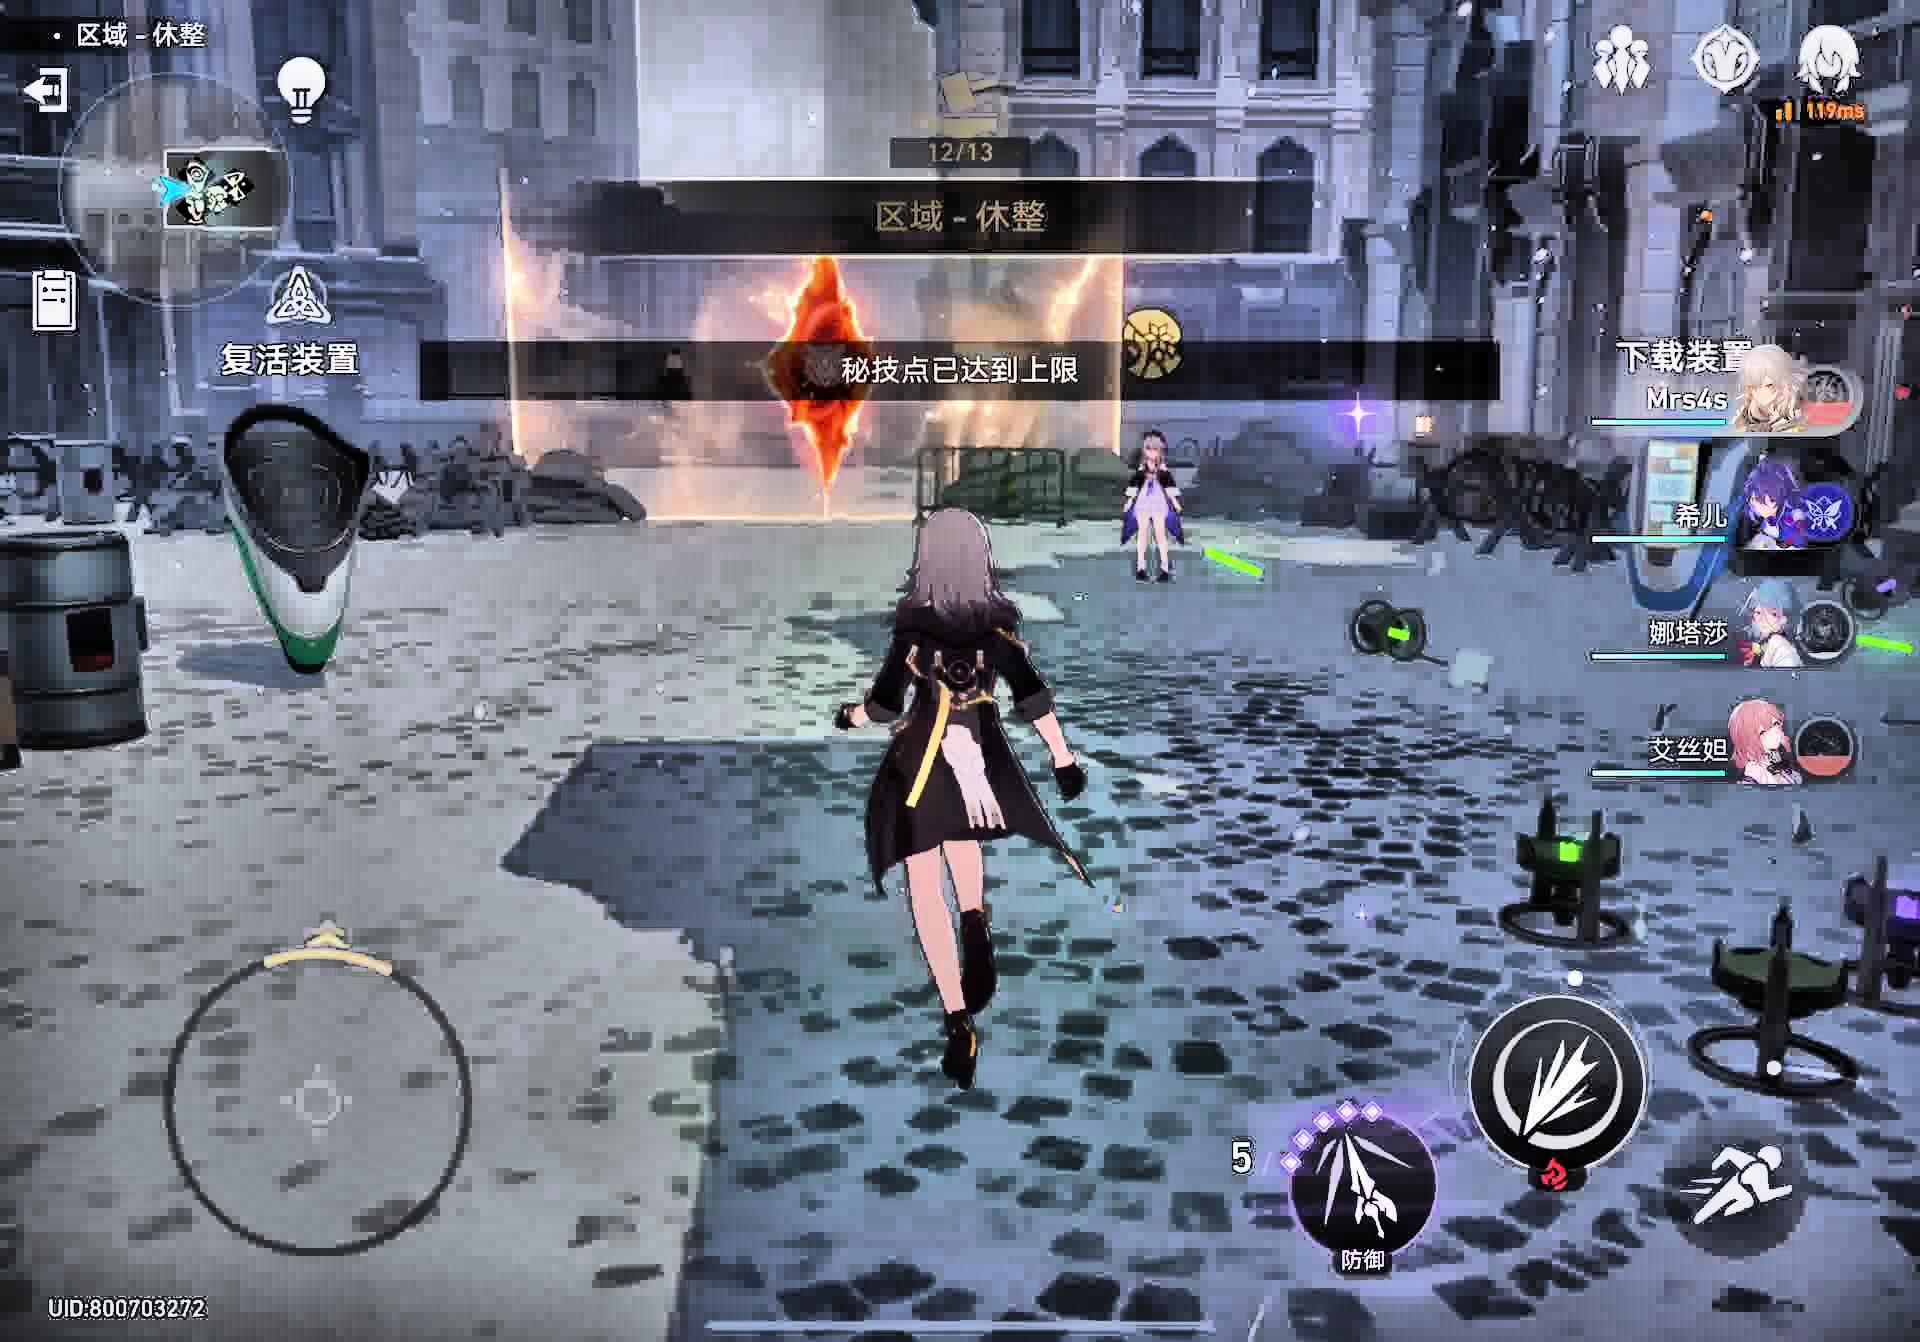BattleDoor: (746, 260, 909, 506)
Self: (842, 508, 1096, 1094)
TeamMate: (1115, 436, 1188, 586)
